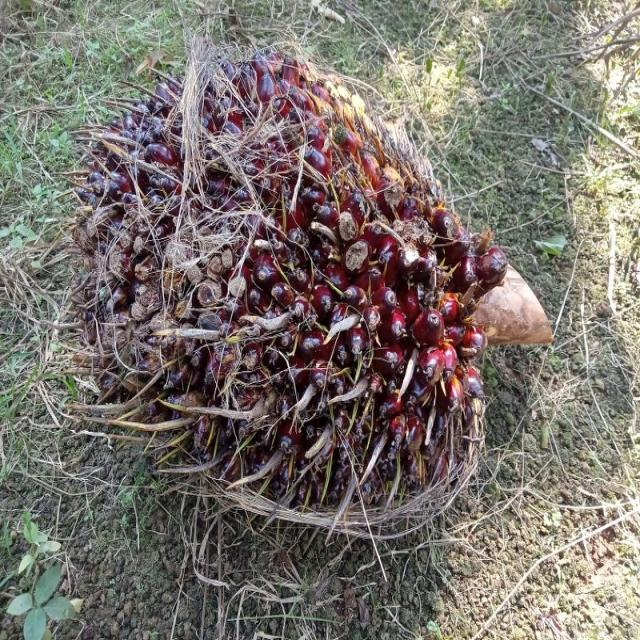fraksi 00: (55, 29, 551, 529)
